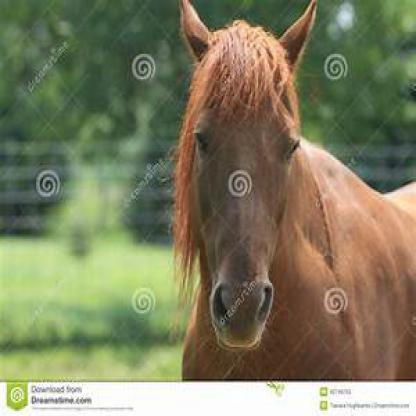horse: (172, 0, 415, 411)
